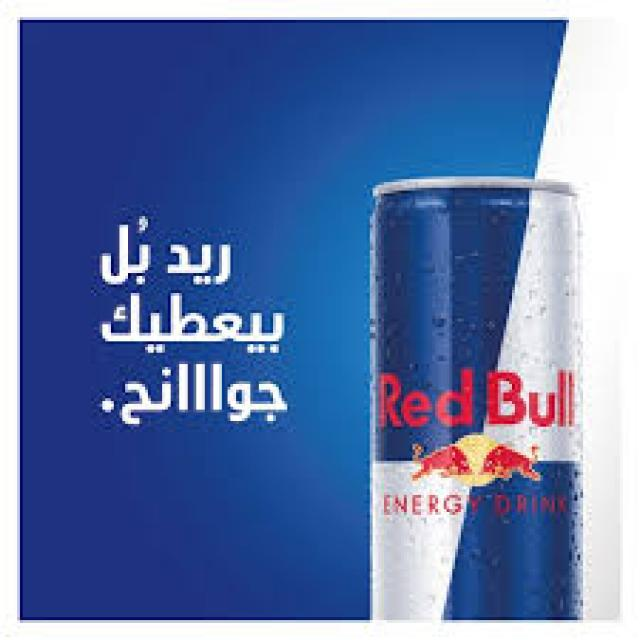red-bull: (363, 172, 598, 635)
